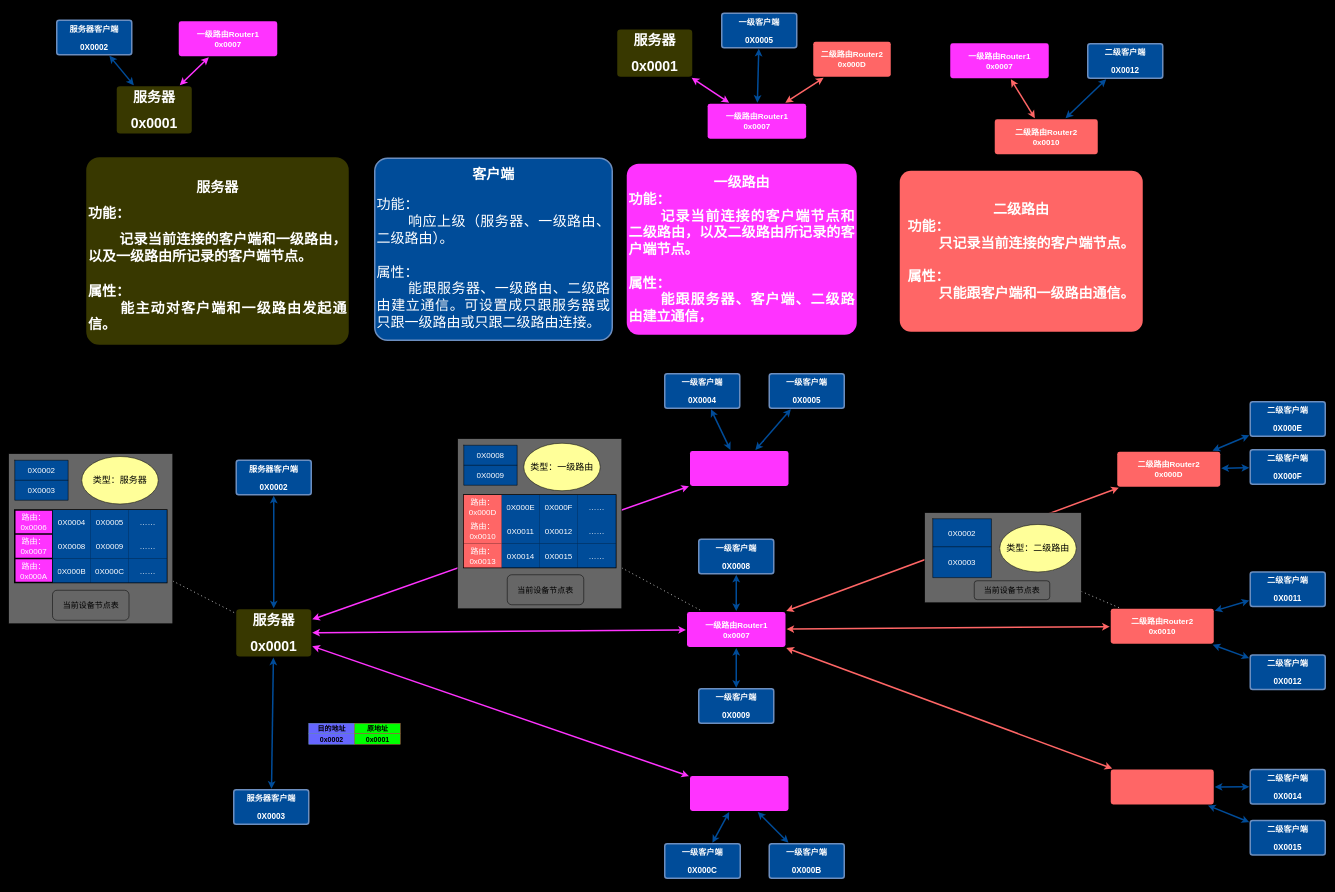
The diagram is 1335 pixels wide and 892 high, and some of its shapes have lost their labels. The shapes that lost their labels are listed below. From the top down, each one's centre as x and y in pixels, then its label:
the point at 739,468: 一级路由 Router1 0x0006
the point at 739,793: 一级路由 Router1 0x000A
the point at 1162,786: 二级路由 Router2 0x0013
